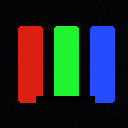3 line_h: (36, 96, 94, 102)
